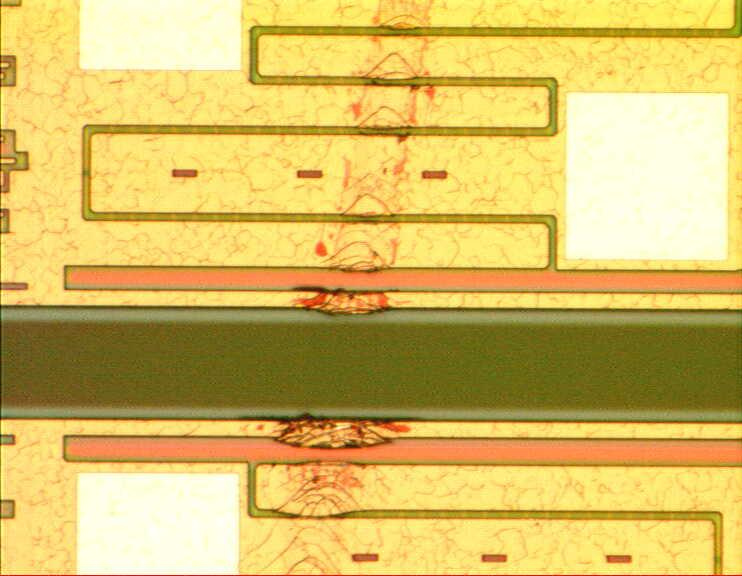SCRATCH: (259, 1, 449, 575)
